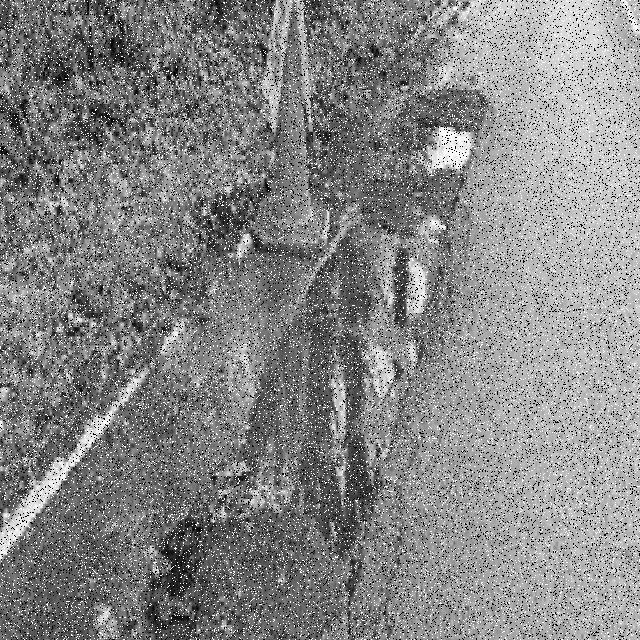pothole: (134, 127, 476, 601)
